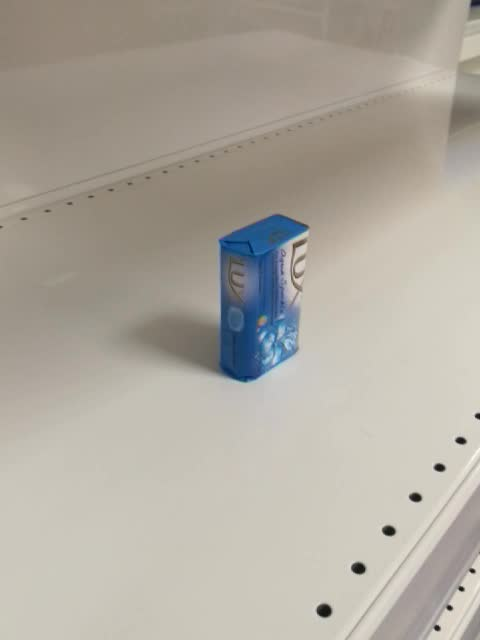soap: (215, 210, 311, 384)
